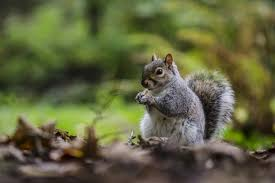squirrel: (134, 50, 234, 150)
